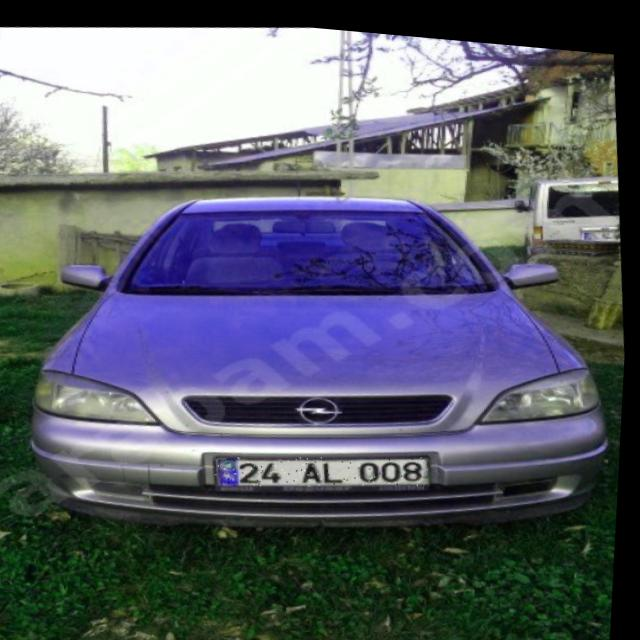license_plate: (218, 434, 437, 497)
